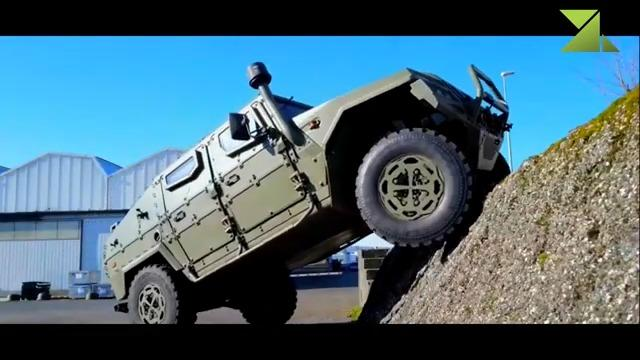MIL_HMMWV: (106, 65, 512, 324)
